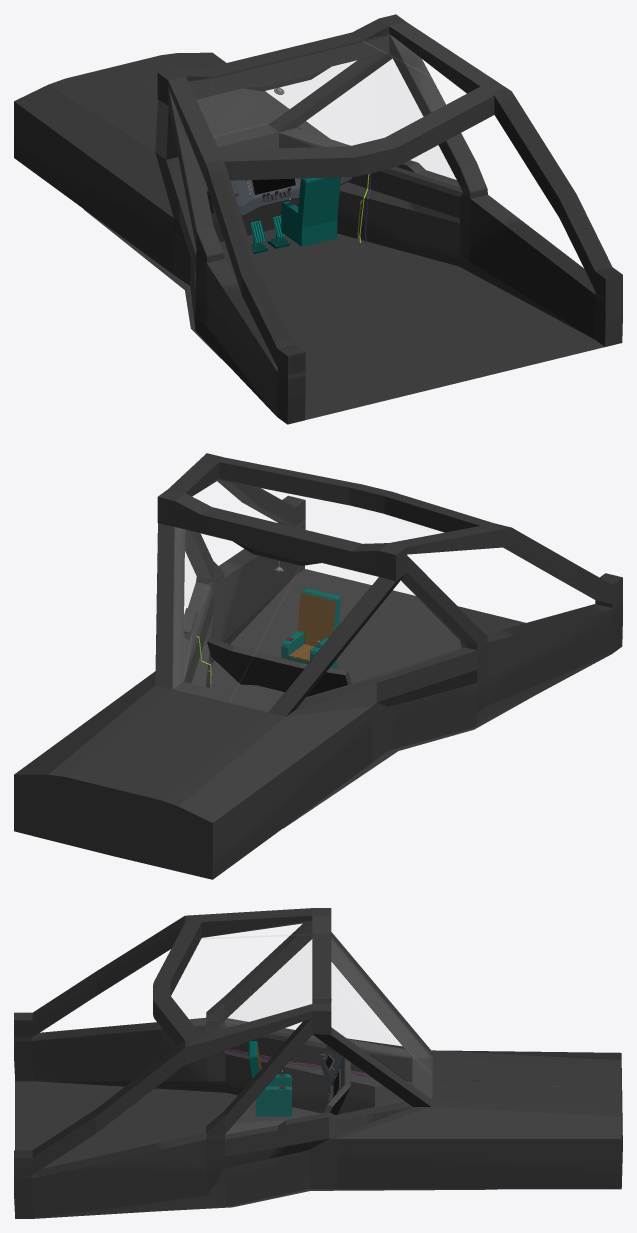
Rendered from Spaceship.glb.
The picture shows the model from 3 angles, top to bottom: view 1: azimuth 30°, elevation 25°; view 2: azimuth 150°, elevation 25°; view 3: azimuth 270°, elevation 25°; orthographic projection. The views are drawn at different scales.
Visible parts, largest first — view 1: MainFrame, Flooring, Seat, Dashboard, Pedal_left.001; view 2: MainFrame, Flooring, Dashboard, Seat; view 3: MainFrame, Flooring, Seat, Dashboard.
Part boxes in pixels (box(x1,y1,x2,y2)): MainFrame: box(14, 14, 622, 424); Flooring: box(84, 209, 619, 421); Seat: box(281, 177, 340, 246); Dashboard: box(207, 177, 352, 216); Pedal_left.001: box(250, 215, 290, 254); MainFrame: box(14, 453, 622, 879); Flooring: box(210, 569, 536, 828); Dashboard: box(207, 637, 351, 696); Seat: box(281, 587, 340, 668); MainFrame: box(14, 908, 622, 1218); Flooring: box(15, 1080, 496, 1218); Seat: box(248, 1041, 291, 1116); Dashboard: box(319, 1045, 350, 1114).
Size of the model in its own units: 3.6 by 2.24 by 6.37.
Materials: 44 (43 with a texture image).
